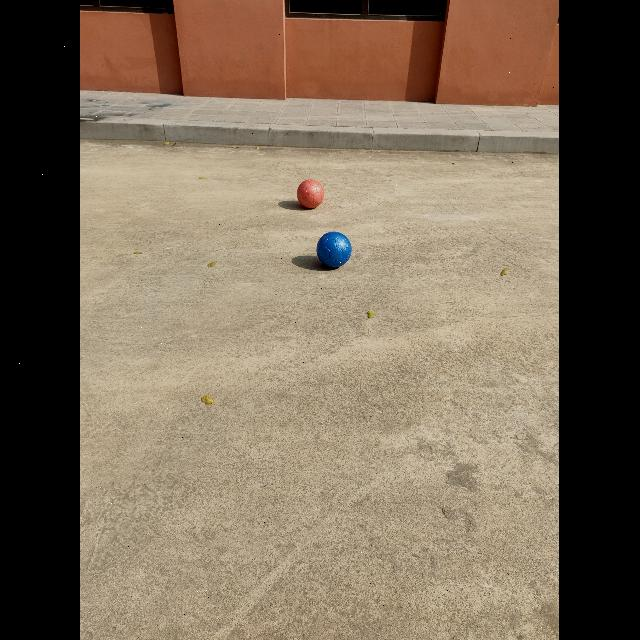B: (317, 232, 353, 268)
R: (297, 179, 325, 208)
